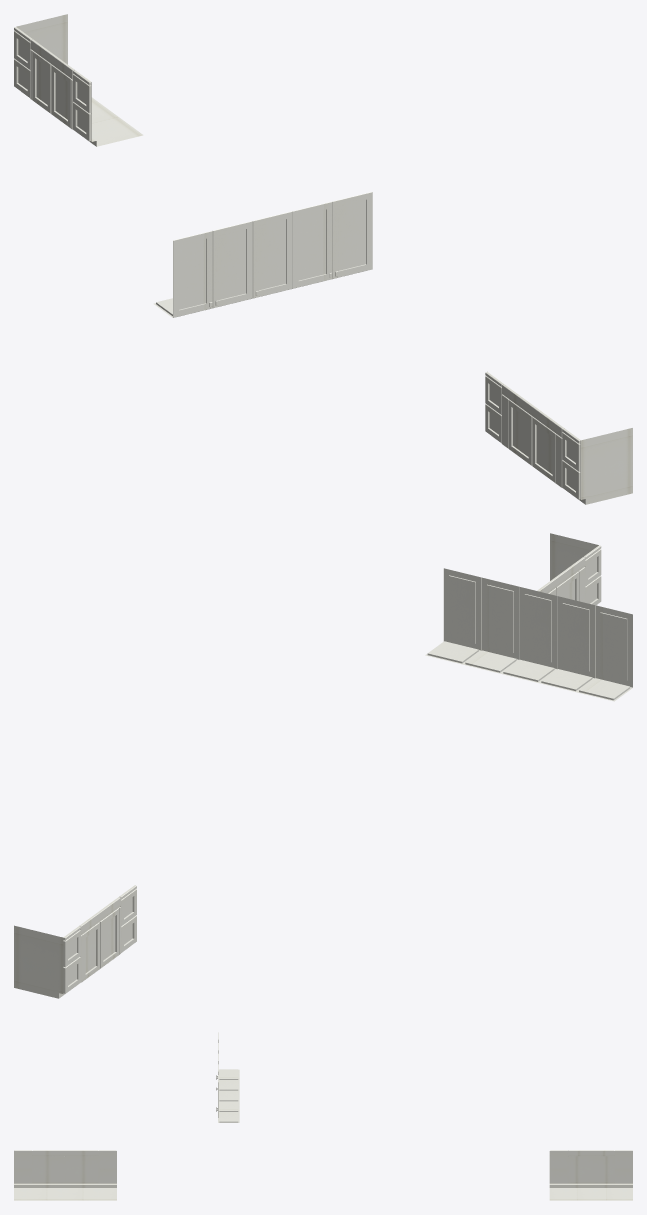
Rendered from Cabinets_Linen_.glb.
The picture shows the model from 3 angles, top to bottom: view 1: azimuth 30°, elevation 25°; view 2: azimuth 150°, elevation 25°; view 3: azimuth 270°, elevation 25°; orthographic projection. The views are drawn at different scales.
Parts seen in each view (by area): view 1: Cabinets Linen_; view 2: Cabinets Linen_; view 3: Cabinets Linen_.
Part boxes in pixels (x1=…): Cabinets Linen_: x1=14, y1=14, x2=632, y2=504; Cabinets Linen_: x1=14, y1=533, x2=632, y2=998; Cabinets Linen_: x1=14, y1=1032, x2=632, y2=1200.
Bounding box in the file's own units: 4.8 × 3.07 × 17.16.
1 material, 1 textured.
